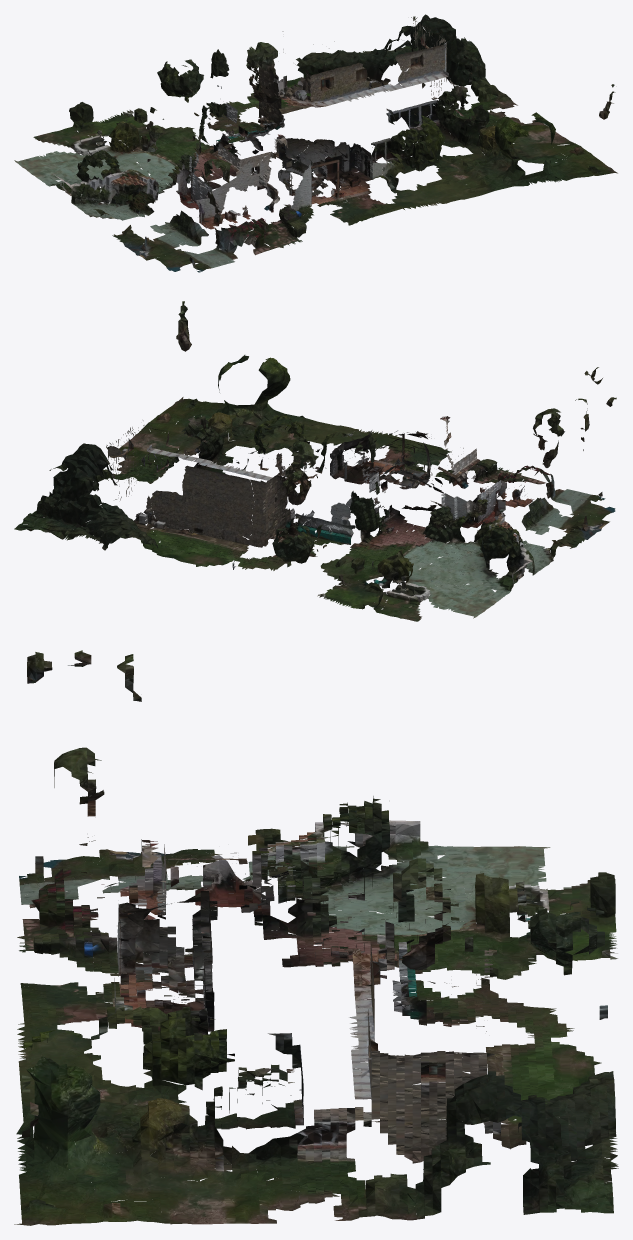
File: exterior_2.glb
3 renders of one model, top to bottom at view 1: azimuth 30°, elevation 25°; view 2: azimuth 150°, elevation 25°; view 3: azimuth 270°, elevation 25°, orthographic. The views are drawn at different scales.
Parts seen in each view (by area): view 1: geometry_1, geometry_2; view 2: geometry_1, geometry_2; view 3: geometry_1, geometry_2.
Part boxes in pixels (x1,y1,x2,y2): geometry_1: [33, 14, 617, 272]; geometry_2: [14, 17, 575, 271]; geometry_1: [21, 301, 605, 621]; geometry_2: [14, 355, 616, 618]; geometry_1: [14, 654, 617, 1225]; geometry_2: [17, 650, 618, 1224].
Size of the model in its own units: 53.16 by 15.56 by 36.78.
Materials: 2 (2 with a texture image).
